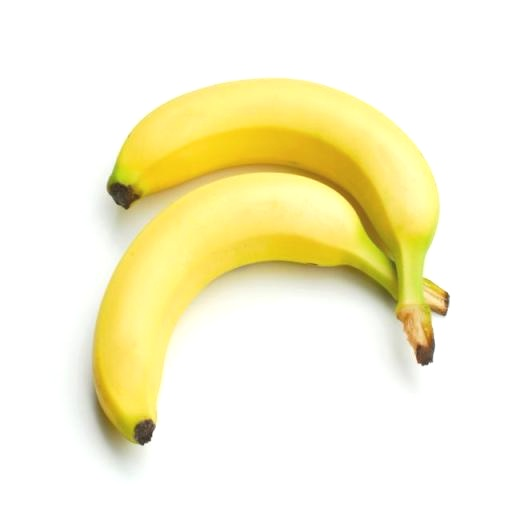fruit: (108, 79, 438, 363), (93, 173, 397, 443)
